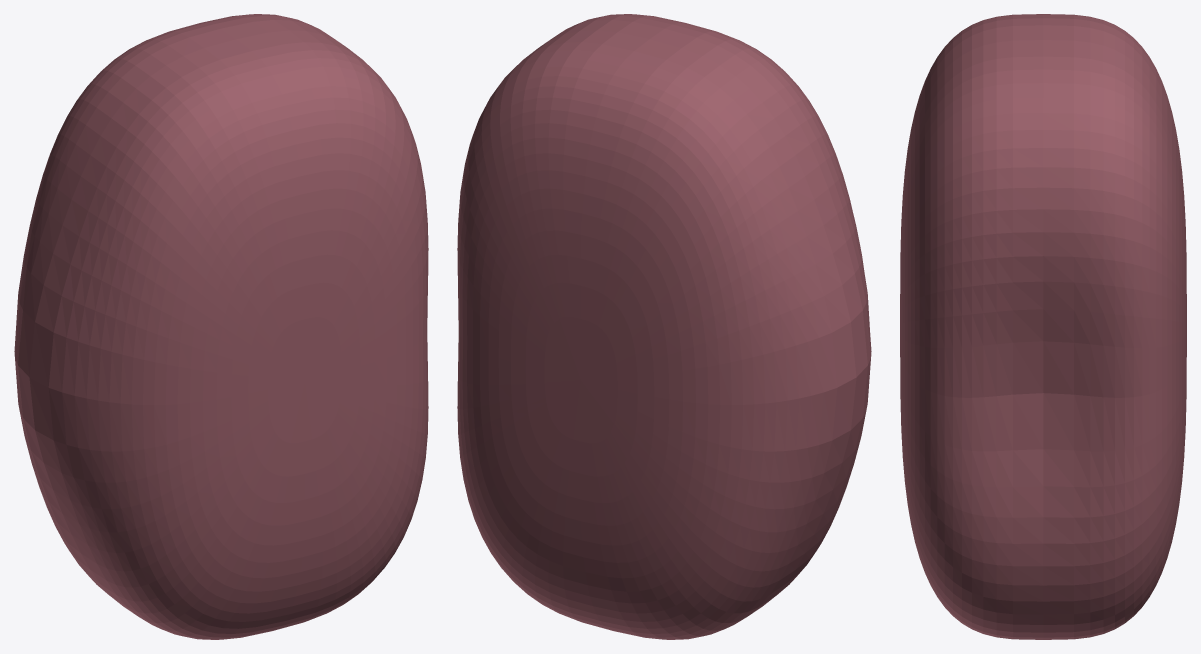
The model's file is left_kidney.glb.
3 renders of one model, left to right at view 1: azimuth 30°, elevation 25°; view 2: azimuth 150°, elevation 25°; view 3: azimuth 270°, elevation 25°, orthographic.
Visible parts, largest first — view 1: left_kidney; view 2: left_kidney; view 3: left_kidney.
Boxes of the visible parts, x1=… form: left_kidney: x1=14, y1=14, x2=428, y2=639; left_kidney: x1=457, y1=14, x2=871, y2=639; left_kidney: x1=900, y1=14, x2=1186, y2=639.
Size of the model in its own units: 0.069 by 0.106 by 0.048.
